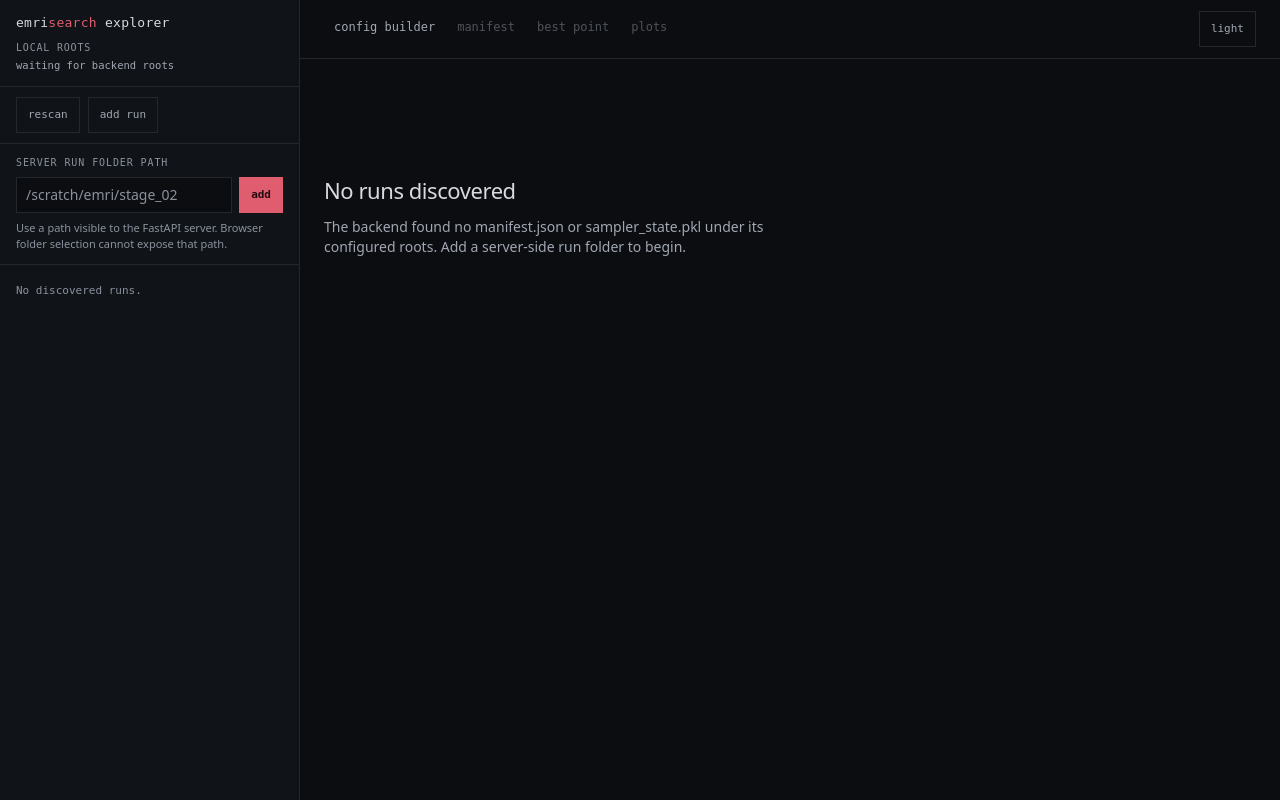
Test: add-run workflow › surfaces a JSON 422 detail from the add-run endpoint
The width and height of the screenshot is (1280, 800).
Expected: the heading "No runs discovered" is shown, [324, 175, 516, 205]
Type "/not/a/run" into the field labelled "Server run folder path" at x=124, y=195, box [16, 177, 232, 213]
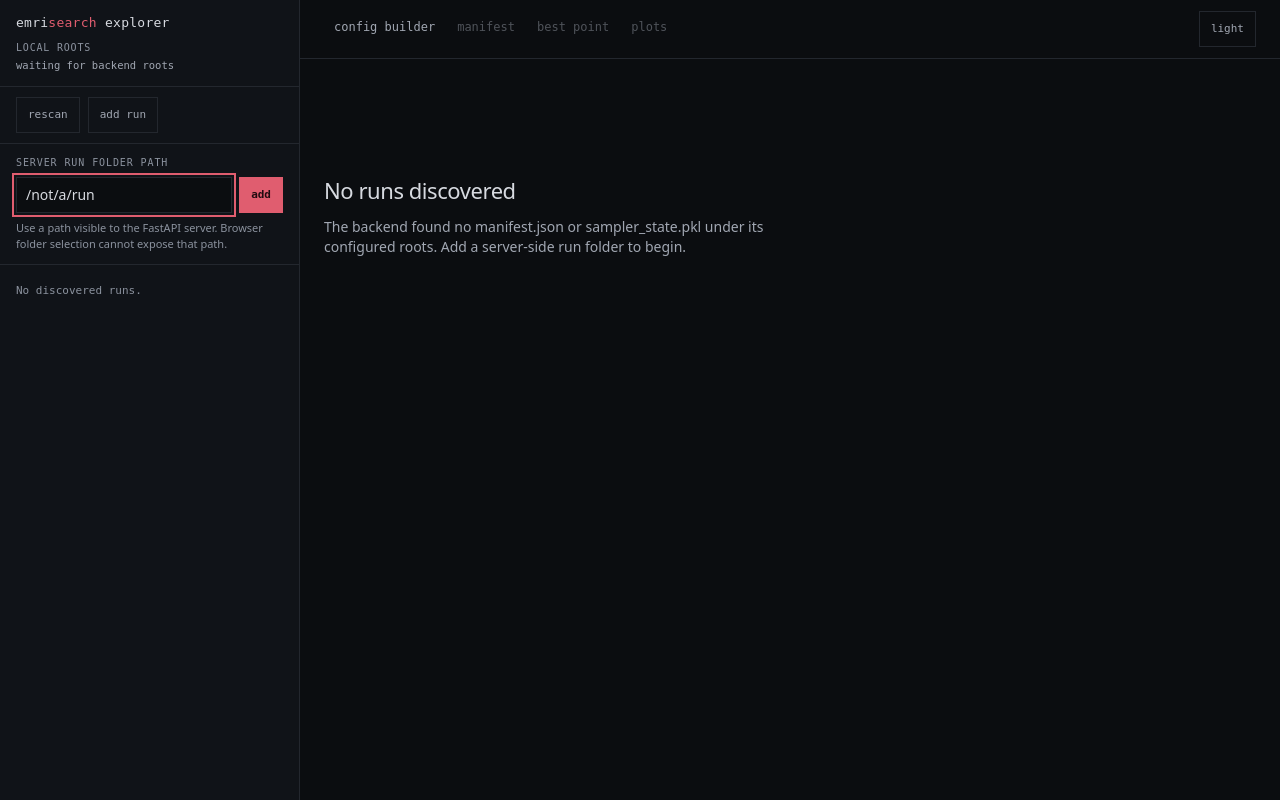
Click the button "add" at x=261, y=195, box [239, 177, 283, 213]
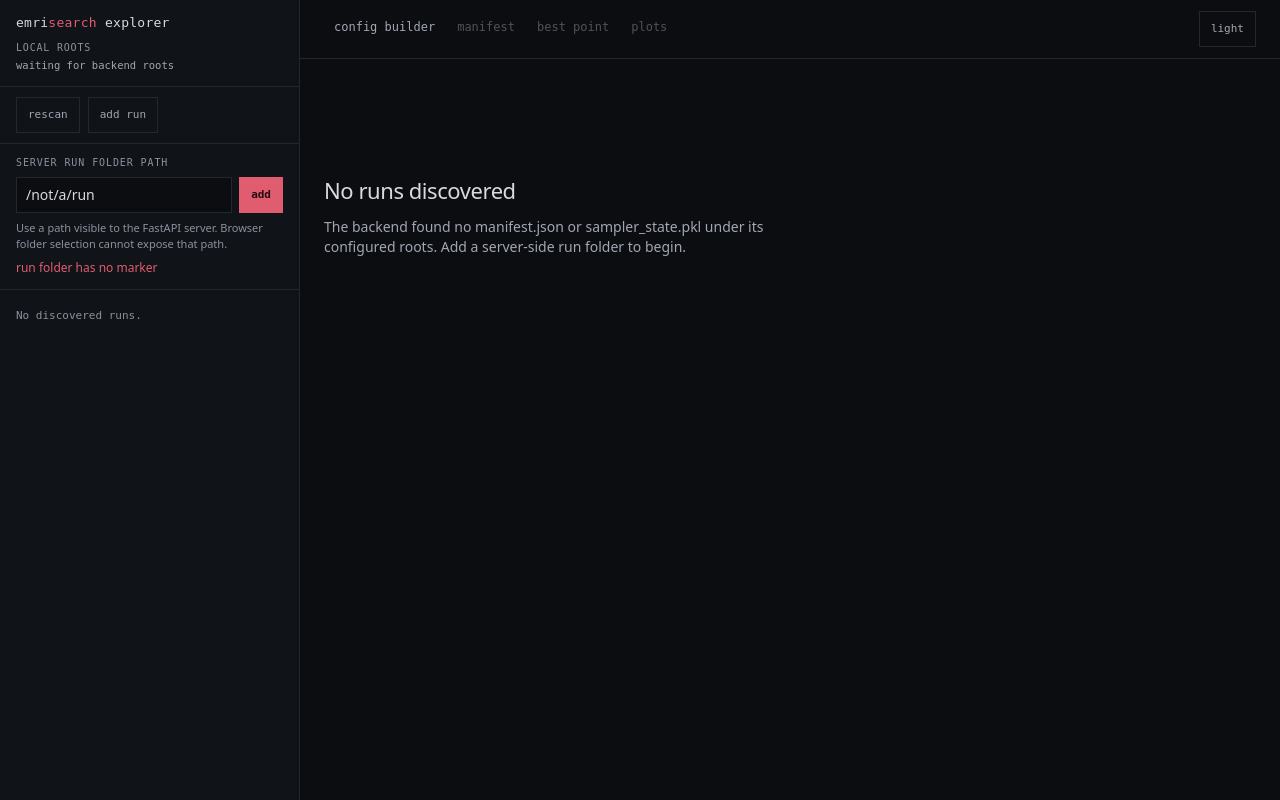
Now the message reads "run folder has no marker", box [16, 259, 158, 276]
